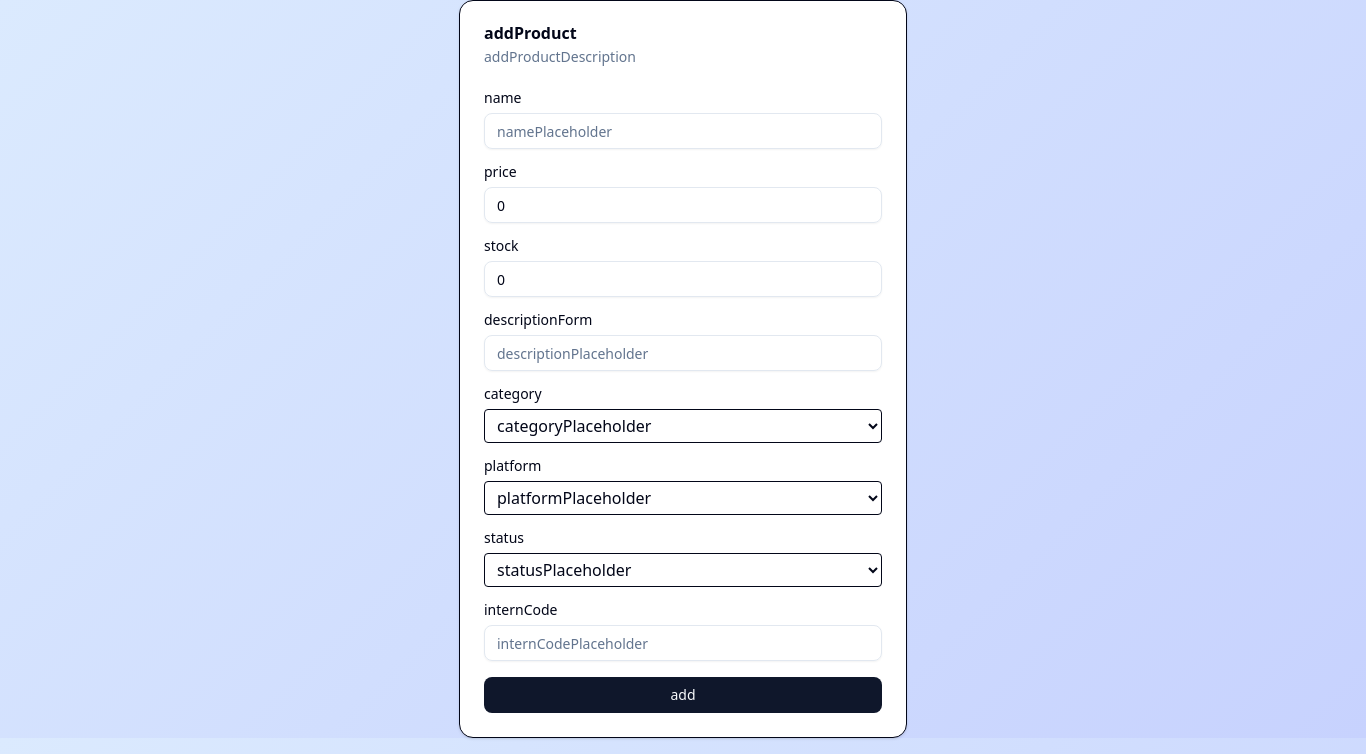
ProductAddForm › should show errors if the form is incomplete
The image size is (1366, 754).
Select "categoryGames" in the dropdown labelled "category" at (683,426), box [484,409,882,443]
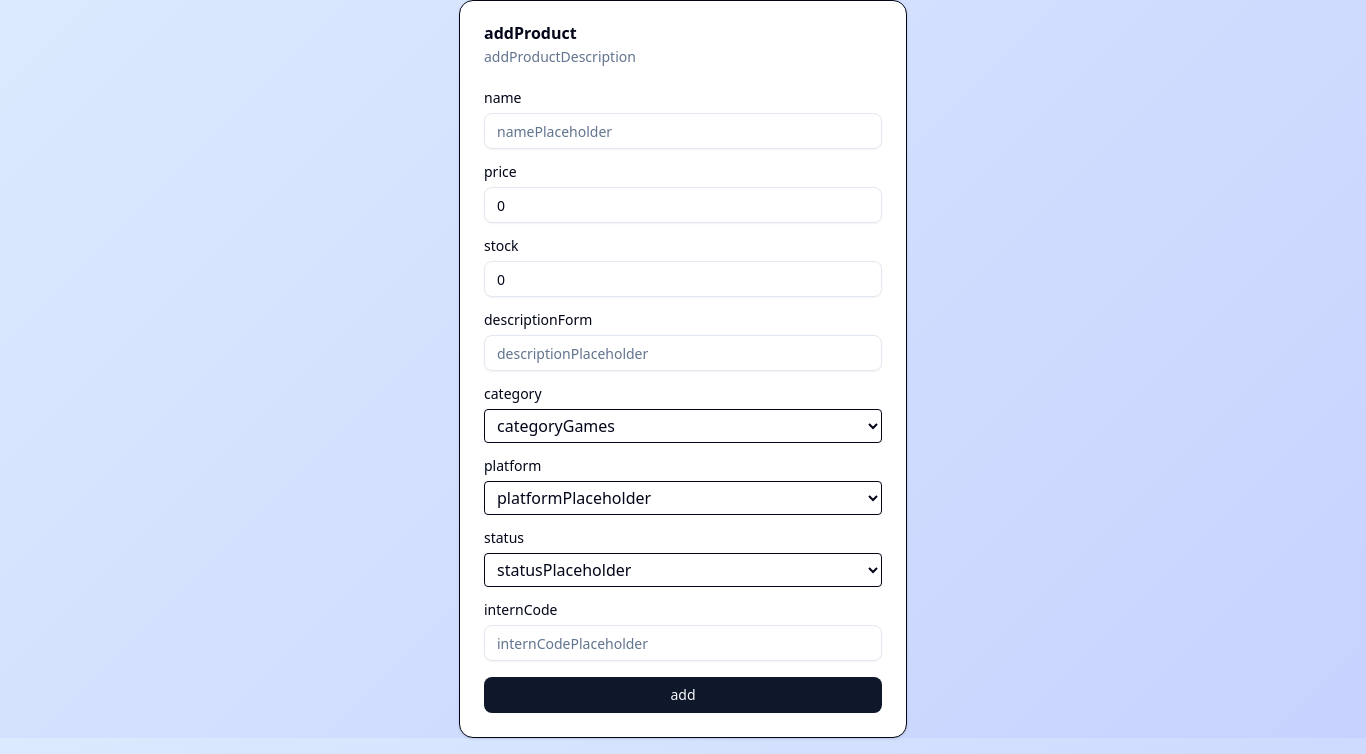
Select "1 - PlayStation" in the 2nd dropdown at (683,498), box [484,481,882,515]
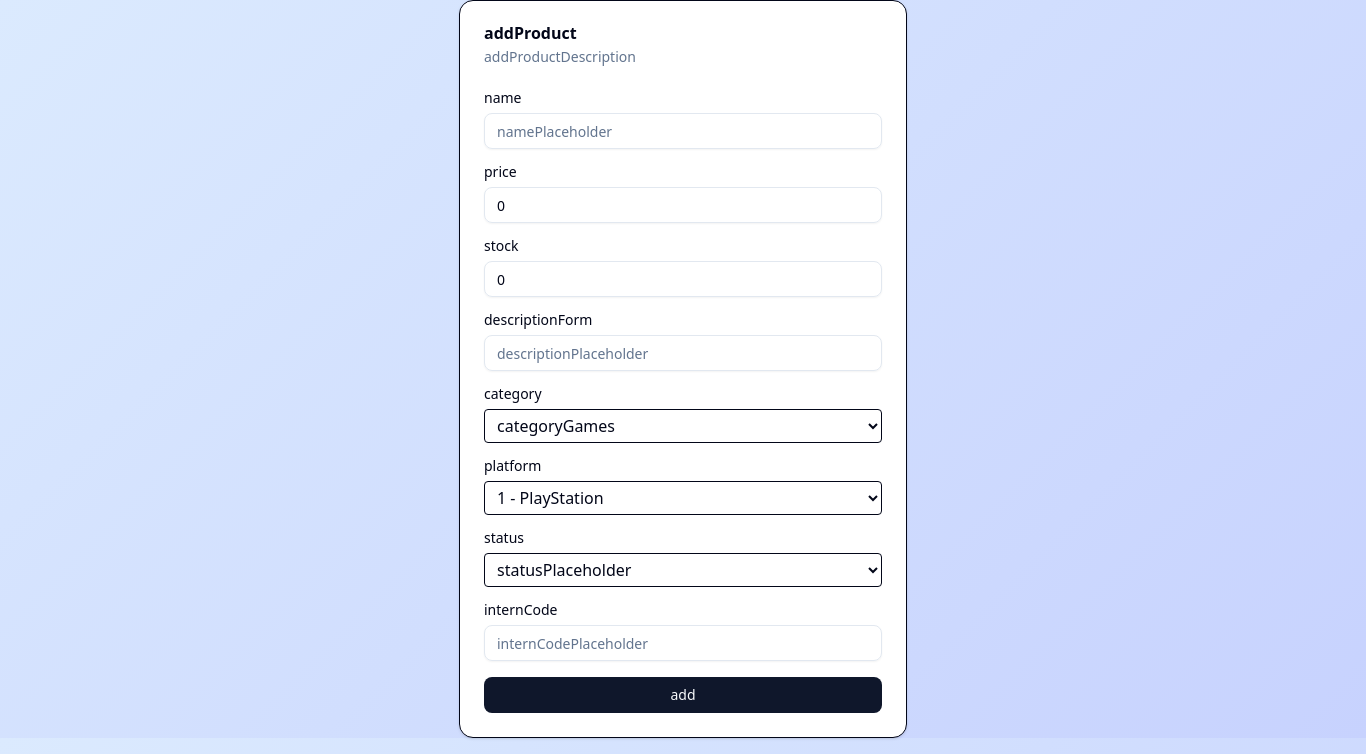
Select "statusNew" in the dropdown labelled "status" at (683,570), box [484,553,882,587]
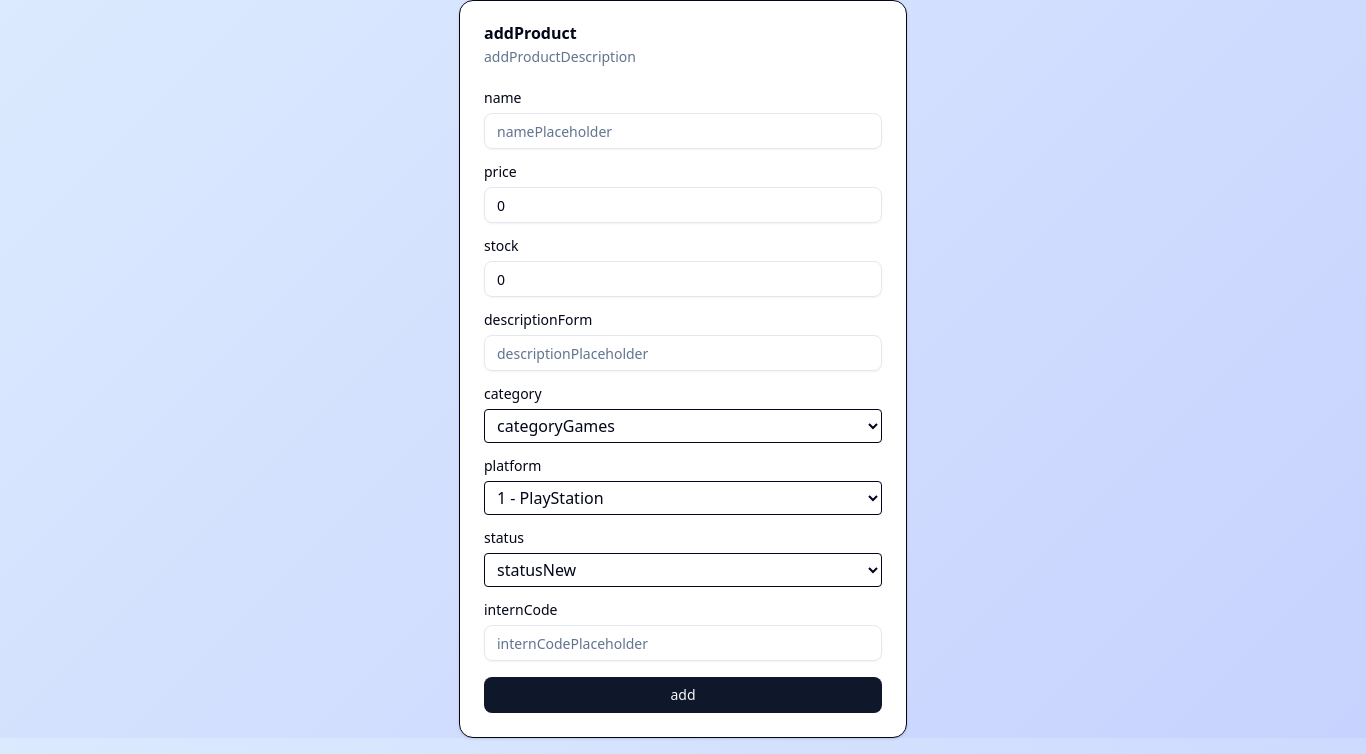
Click the button "add".
click(683, 695)  # box [484,677,882,713]
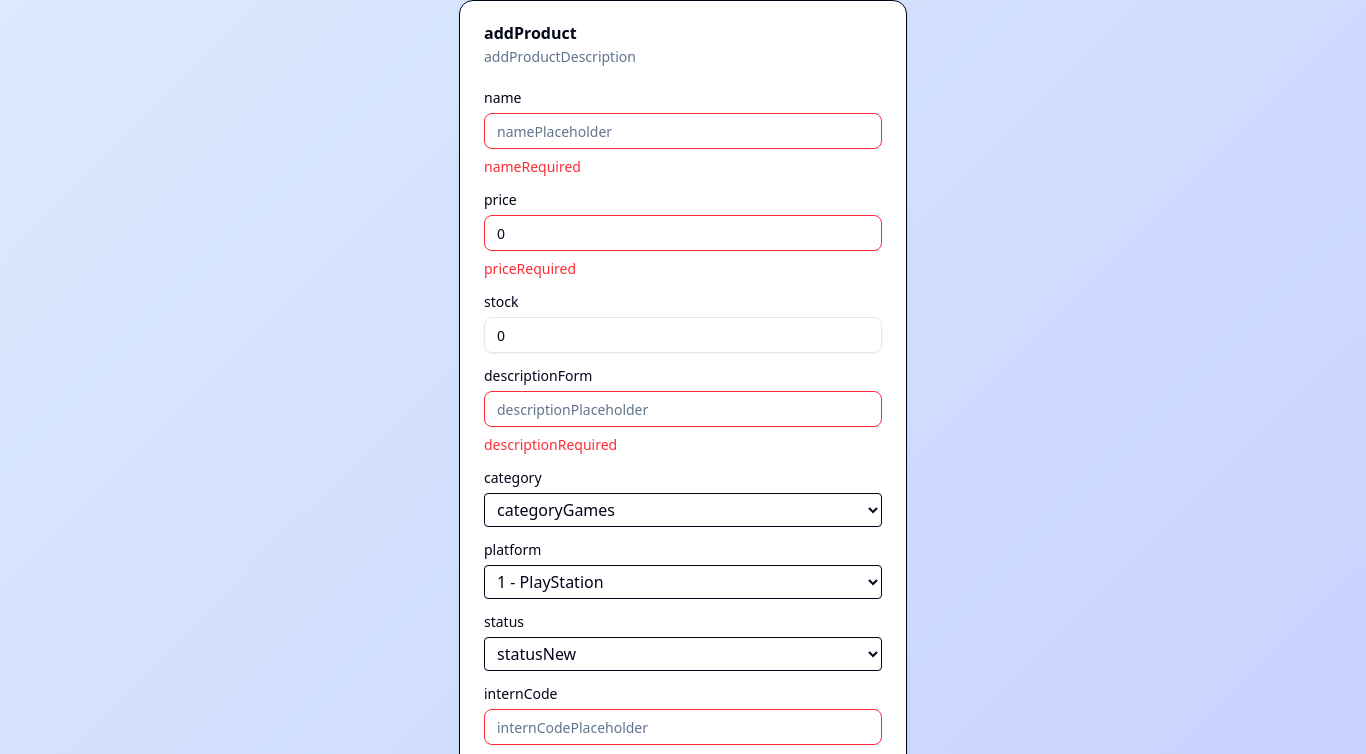
Result: the text "nameRequired" is shown at [484,157,581,176]
Result: the text "priceRequired" is shown at [484,259,576,278]
